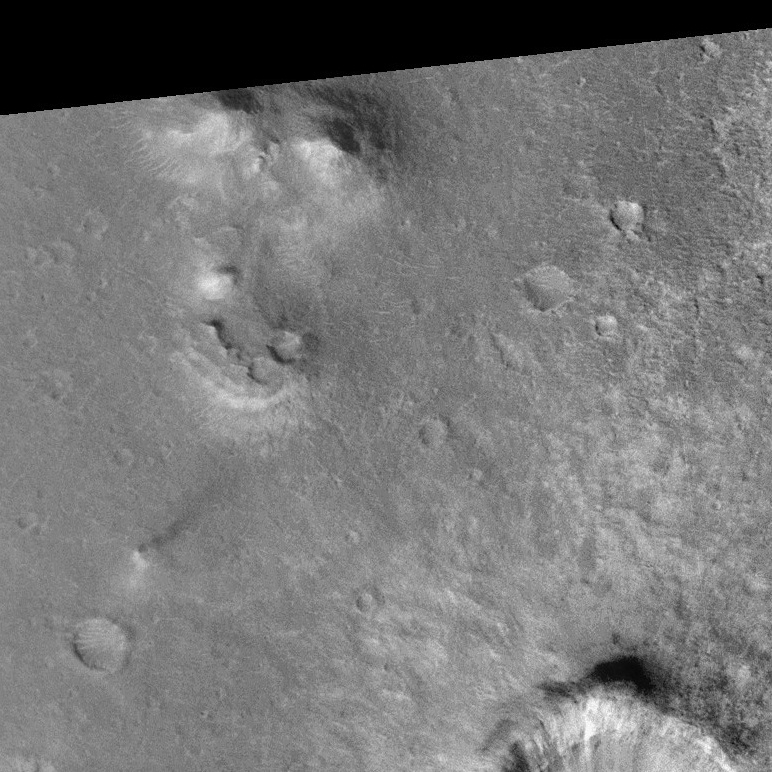dust_devil: (130, 519, 186, 572)
